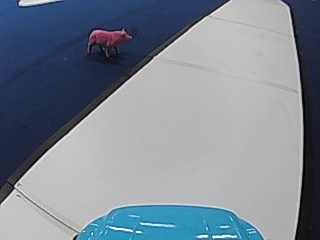pig: (85, 25, 133, 56)
